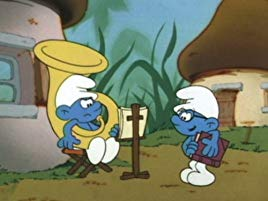smurf: (51, 70, 121, 164), (167, 86, 220, 187)
